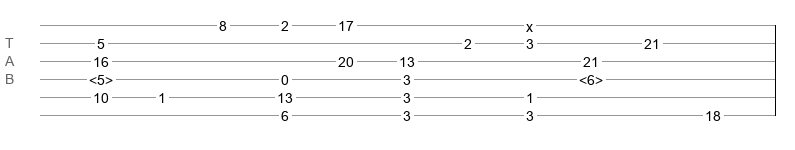0: (281, 72, 289, 82)
1: (158, 90, 166, 100), (526, 90, 534, 100)
10: (93, 90, 109, 100)
13: (277, 90, 293, 100), (399, 54, 415, 64)
16: (93, 54, 109, 64)
17: (338, 18, 354, 28)
18: (705, 108, 721, 118)
2: (281, 18, 289, 28), (464, 36, 472, 46)
20: (338, 54, 354, 64)
21: (583, 54, 599, 64), (644, 36, 660, 46)
3: (403, 108, 411, 118), (403, 72, 411, 82), (403, 90, 411, 100), (526, 36, 534, 46), (526, 108, 534, 118)
5: (97, 36, 105, 46)
6: (281, 108, 289, 118)
8: (219, 18, 227, 28)
harmonic: (89, 72, 113, 82), (579, 72, 603, 82)
x: (526, 19, 533, 27)
